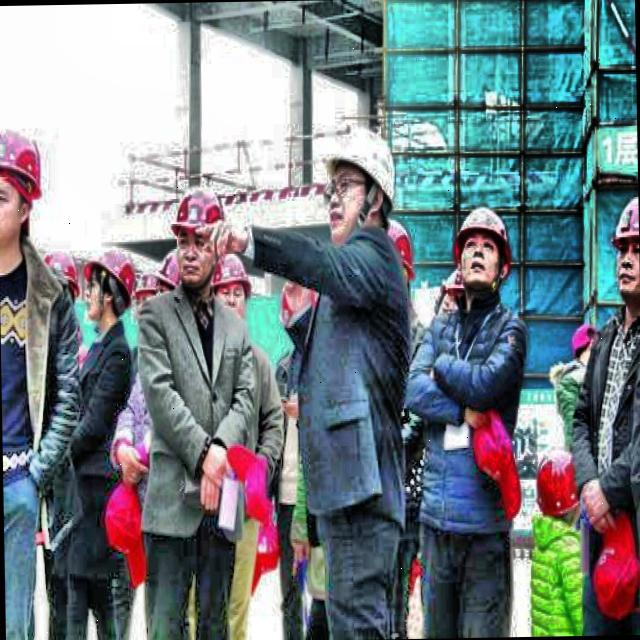helmet: (316, 110, 400, 252), (449, 195, 517, 302), (0, 121, 46, 245), (169, 182, 222, 279), (80, 247, 138, 323), (536, 450, 578, 530), (612, 188, 639, 312), (211, 249, 251, 319)
